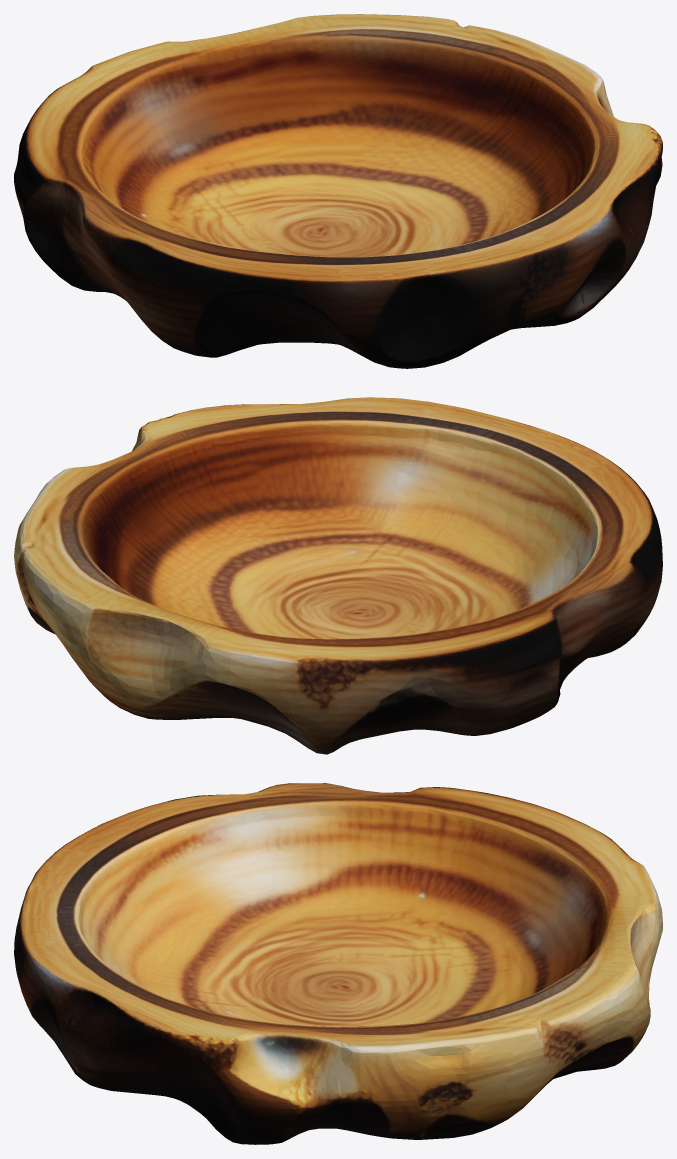
Rendered from wooden-soap-dish-rustic.jpeg.glb.
3 renders of one model, top to bottom at view 1: azimuth 30°, elevation 25°; view 2: azimuth 150°, elevation 25°; view 3: azimuth 270°, elevation 25°, orthographic. The views are drawn at different scales.
Visible parts, largest first — view 1: world; view 2: world; view 3: world.
Boxes of the visible parts, bbox=[...] form: world: bbox=[14, 14, 662, 368]; world: bbox=[14, 397, 662, 754]; world: bbox=[14, 783, 662, 1144].
Size of the model in its own units: 0.9959 by 0.205 by 0.9986.
Materials: 1 (1 with a texture image).
